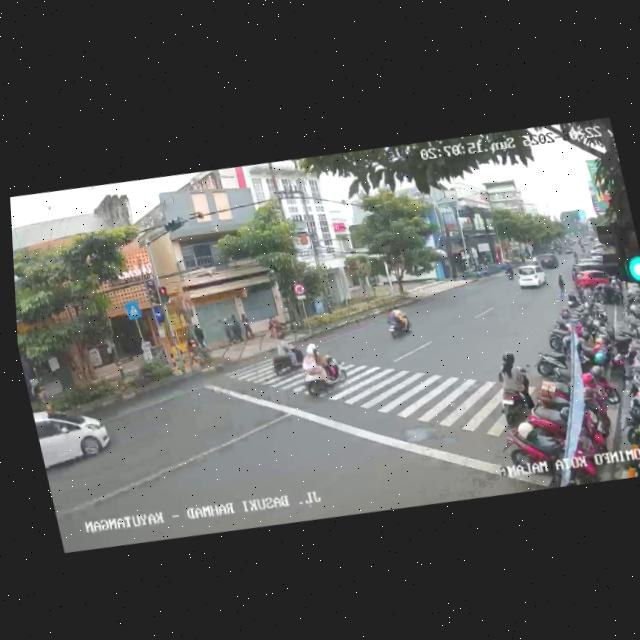car: (32, 397, 119, 480), (567, 249, 620, 297), (511, 259, 552, 294)
motorcycle: (288, 332, 350, 403), (490, 350, 535, 426), (265, 326, 311, 380), (381, 301, 414, 339)
person: (552, 267, 571, 307), (238, 307, 259, 340), (191, 318, 209, 352)
